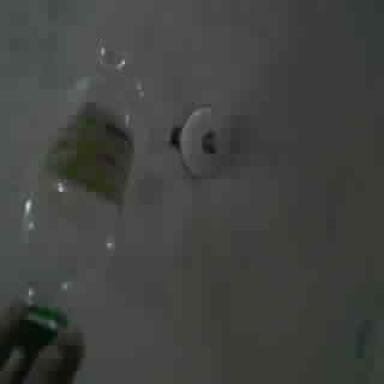bottle: (16, 46, 146, 357)
